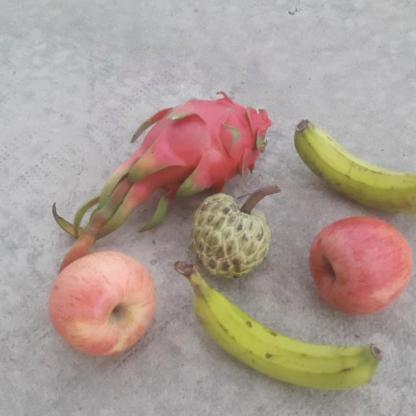annona: (187, 186, 280, 277)
apple: (48, 252, 158, 361), (308, 216, 416, 322)
banana: (174, 263, 387, 395), (290, 117, 416, 218)
pitaya: (122, 89, 274, 197)
